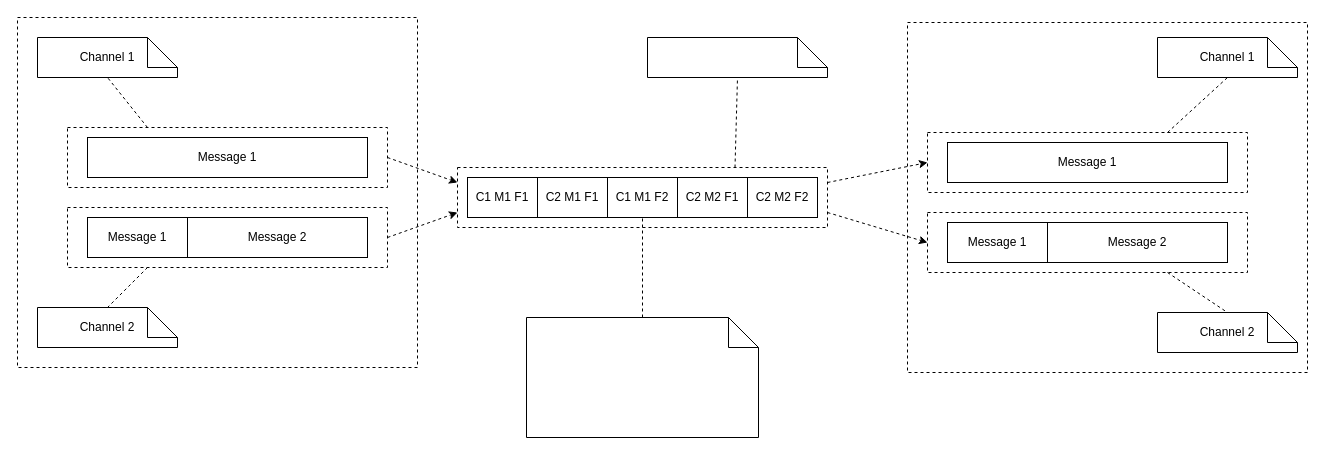
The diagram is 1325 pixels wide and 455 high, and some of its shapes have lost their labels. The shapes that lost their labels are listed below. From the top down, each one's box as (x1, y1, x2, y2) in pixels, then its label:
(646, 36, 828, 78): Transport Stream
(526, 316, 758, 438): "C1 M1 F2" means "Second frame (F2) of first message (M1) in first channel (C1)"
